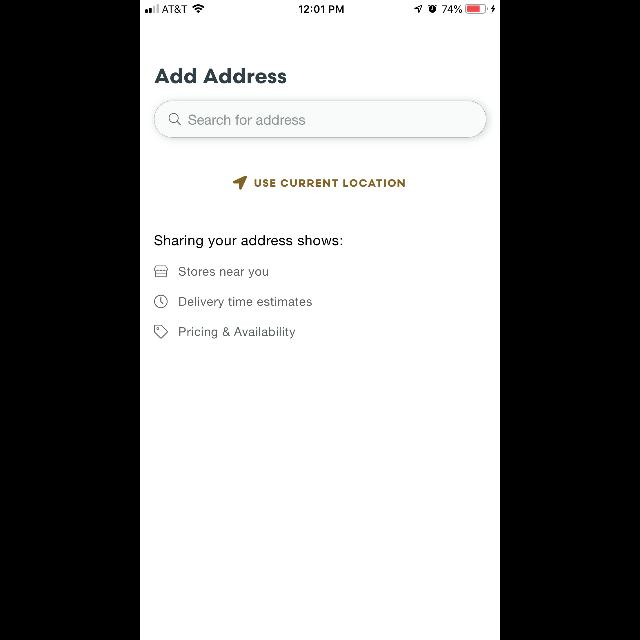icon: (154, 325, 168, 339), (233, 176, 247, 190), (154, 296, 168, 308), (169, 113, 181, 125)
image: (154, 266, 168, 276)
input: (154, 100, 486, 138)
text: (155, 236, 343, 248), (155, 68, 287, 84), (180, 298, 312, 308), (255, 179, 405, 187), (188, 115, 306, 125), (179, 328, 295, 338), (180, 268, 268, 278)
uppertaskbar: (140, 0, 500, 14)
